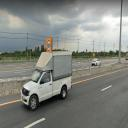speed_limit_120: (46, 39, 52, 51)
